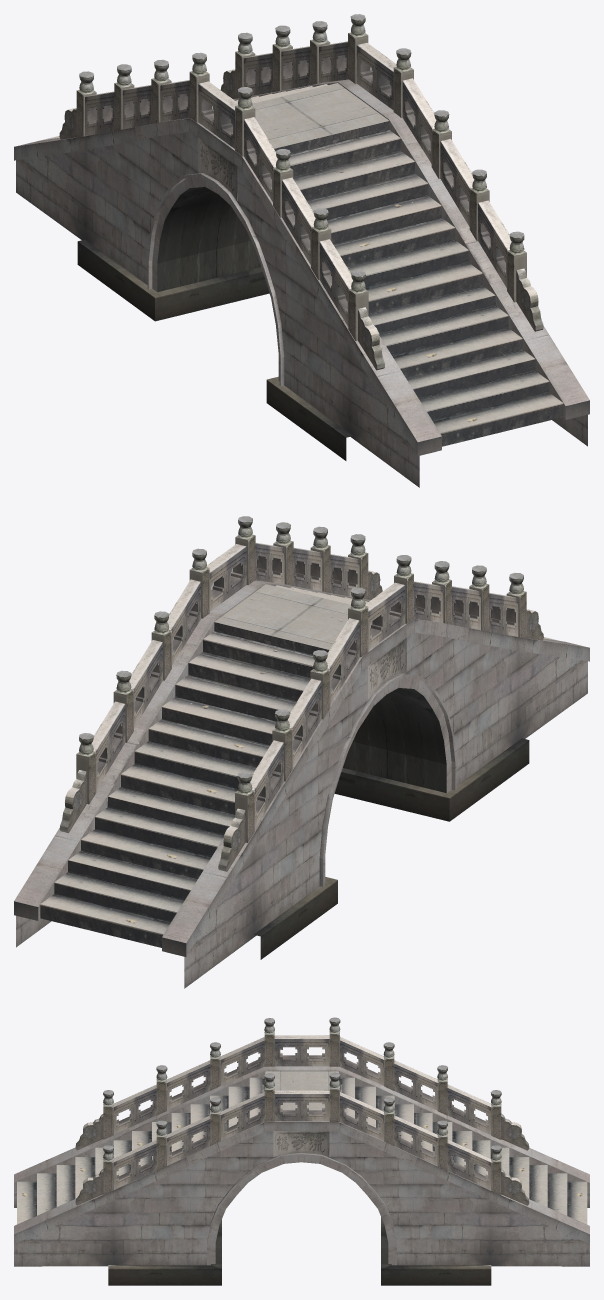
The model's file is Building_BridgeLFQ.FBX.
3 renders of one model, top to bottom at view 1: azimuth 30°, elevation 25°; view 2: azimuth 150°, elevation 25°; view 3: azimuth 270°, elevation 25°, orthographic. The views are drawn at different scales.
Parts seen in each view (by area): view 1: Building_BridgeLFQ; view 2: Building_BridgeLFQ; view 3: Building_BridgeLFQ.
Boxes of the visible parts, <box> form: Building_BridgeLFQ: <box>14,14,589,487</box>; Building_BridgeLFQ: <box>14,516,589,988</box>; Building_BridgeLFQ: <box>14,1017,589,1285</box>.
Bounding box in the file's own units: 437 × 1616 × 632.
